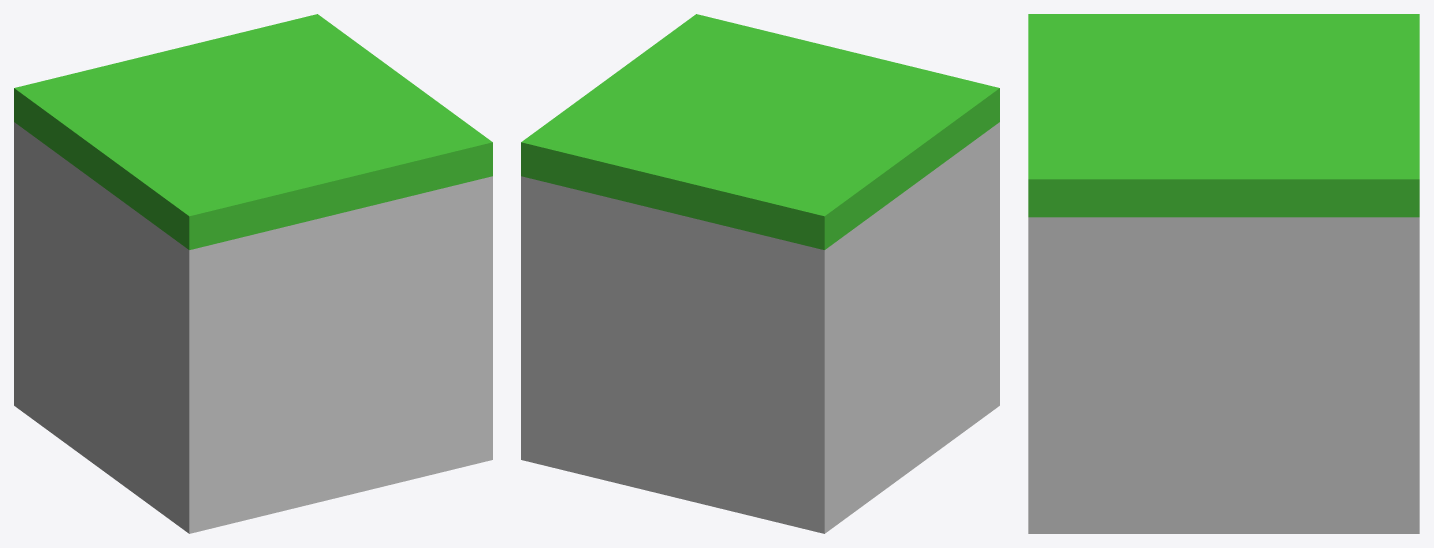
Rendered from building_block_top.fbx.
3 views of the same model, side by side, from view 1: azimuth 30°, elevation 25°; view 2: azimuth 150°, elevation 25°; view 3: azimuth 270°, elevation 25° (orthographic). The views are drawn at different scales.
Visible parts, largest first — view 1: Cube; view 2: Cube; view 3: Cube.
Boxes of the visible parts, box(x1,y1,x2,y2) form: Cube: box(14, 14, 492, 533); Cube: box(521, 14, 999, 533); Cube: box(1028, 14, 1419, 533).
Size of the model in its own units: 200 by 200 by 200.
